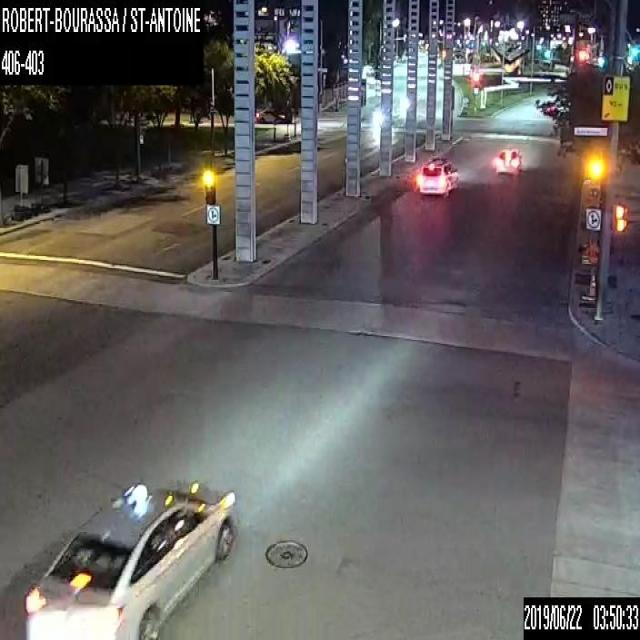construction: (581, 241, 597, 300), (588, 273, 596, 298)
vehicle: (23, 478, 235, 638), (418, 156, 458, 195), (494, 147, 522, 173)
